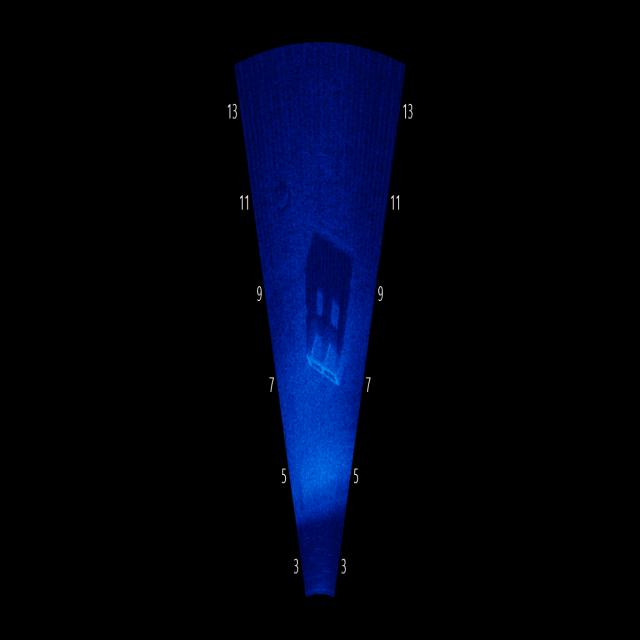square: (301, 304, 351, 393)
